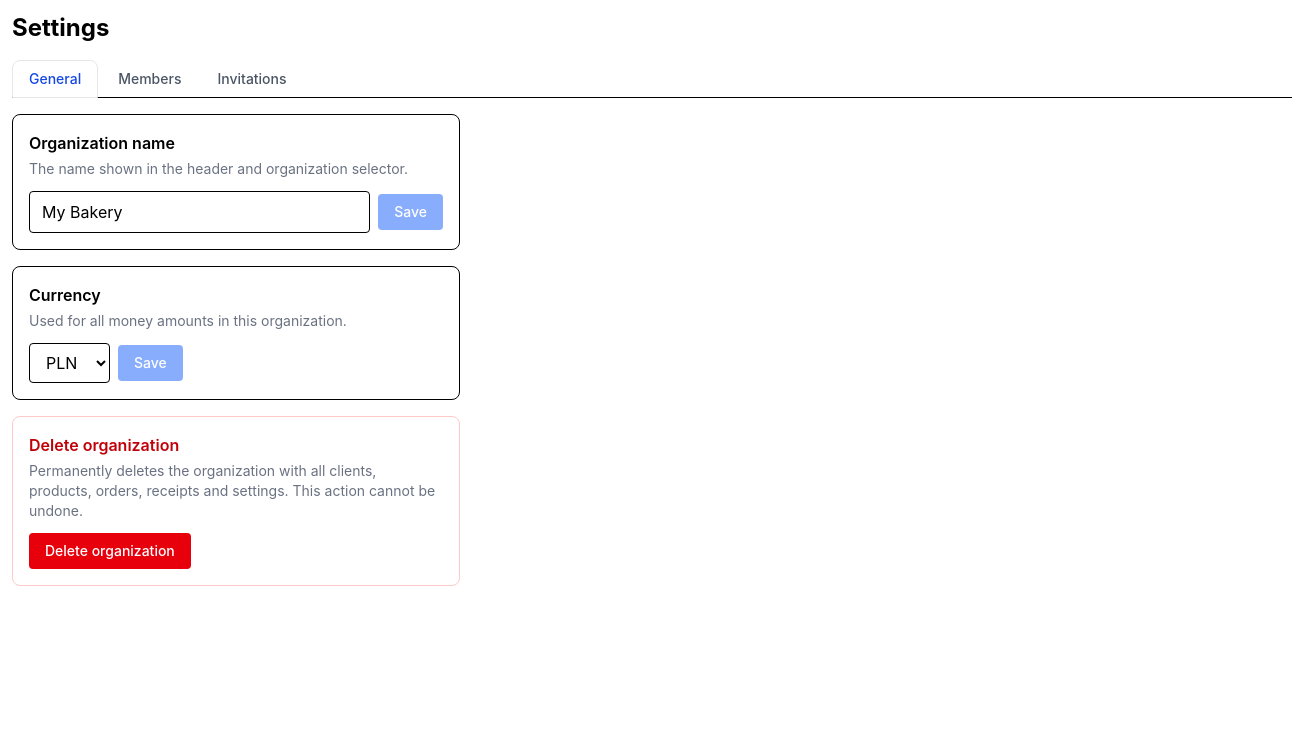
Test: OrgSettingsPage › save button stays disabled until the currency selection changes
Click the tab "General" at (55, 79), box top-left (12, 60), bottom-right (98, 98)
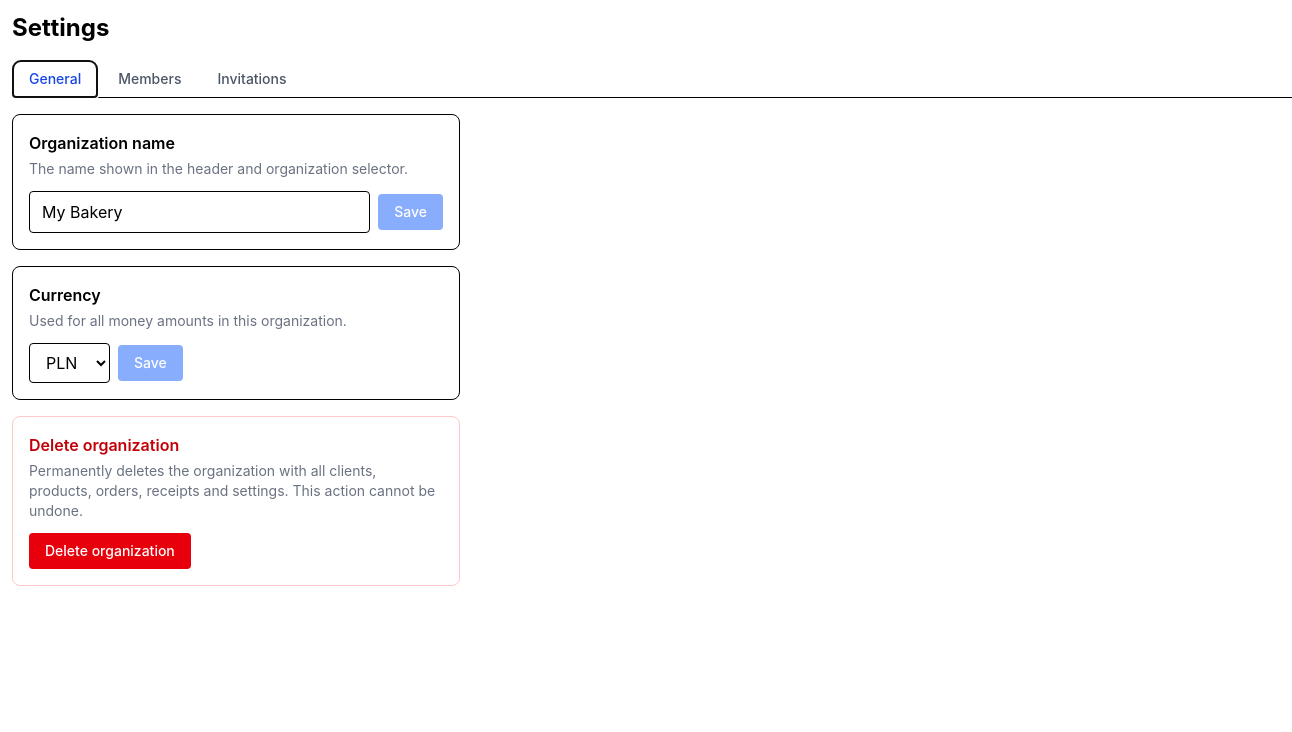
Expected: the button with test id "currency-save" is disabled, top-left (118, 345), bottom-right (183, 381)
Select "USD" in the dropdown with test id "currency-select" at (70, 363), box top-left (29, 343), bottom-right (110, 383)
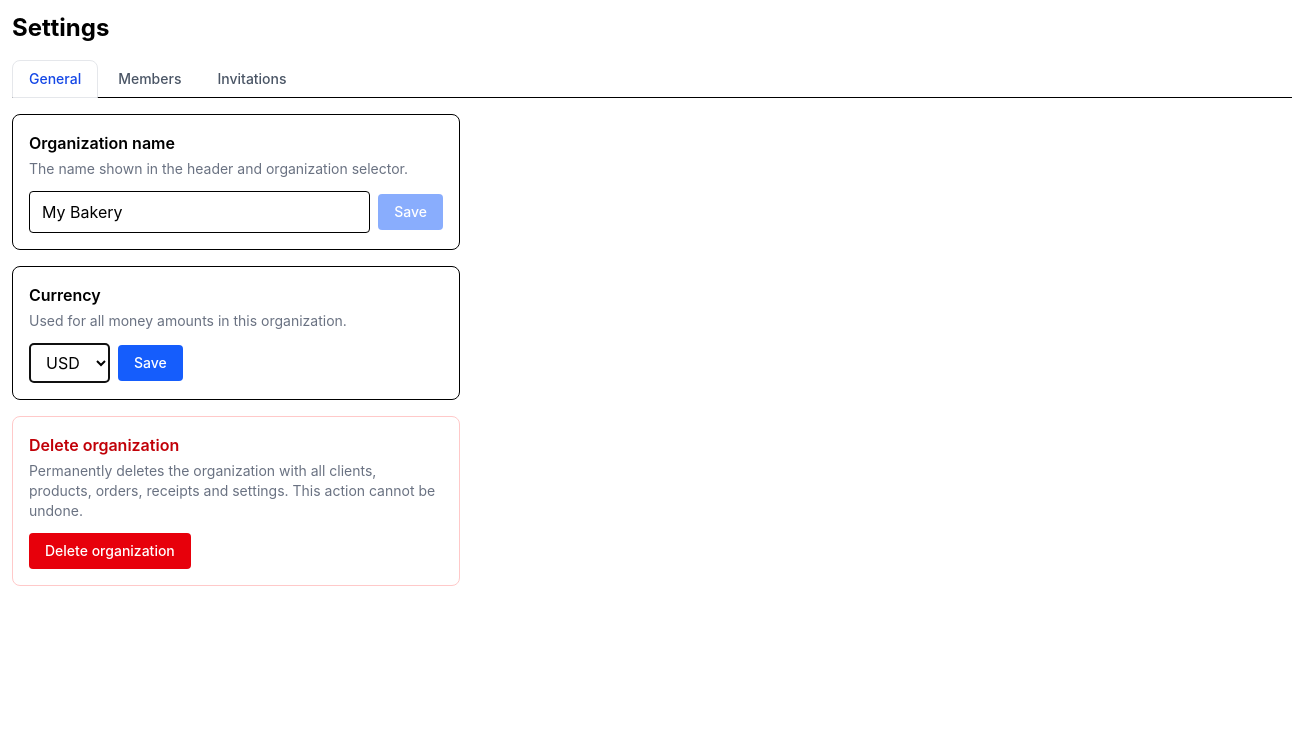
Now the button with test id "currency-save" is enabled, box top-left (118, 345), bottom-right (183, 381)
